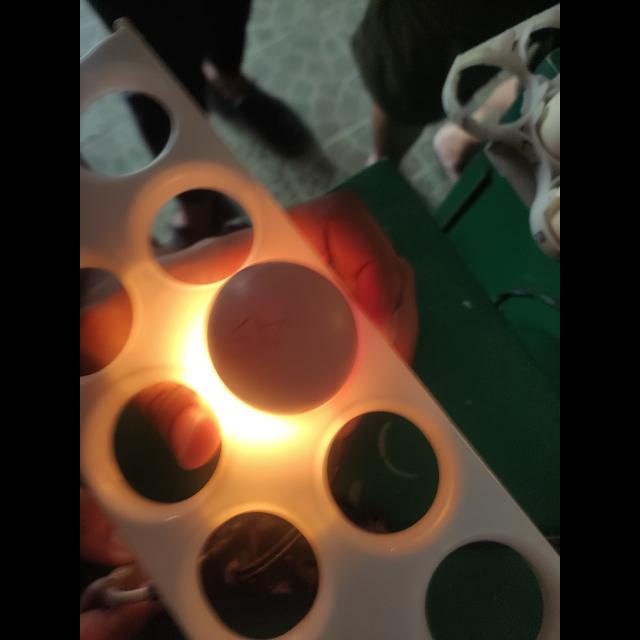Fertile: (202, 261, 360, 409)
